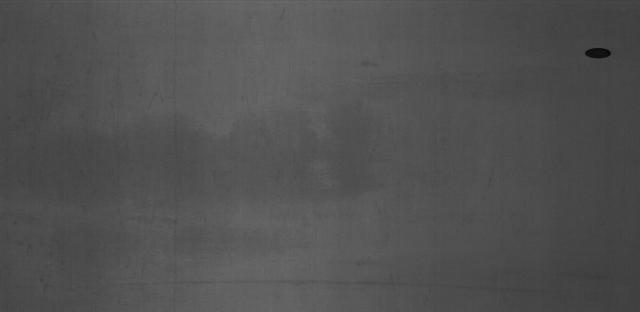punching_hole: (581, 43, 616, 63)
